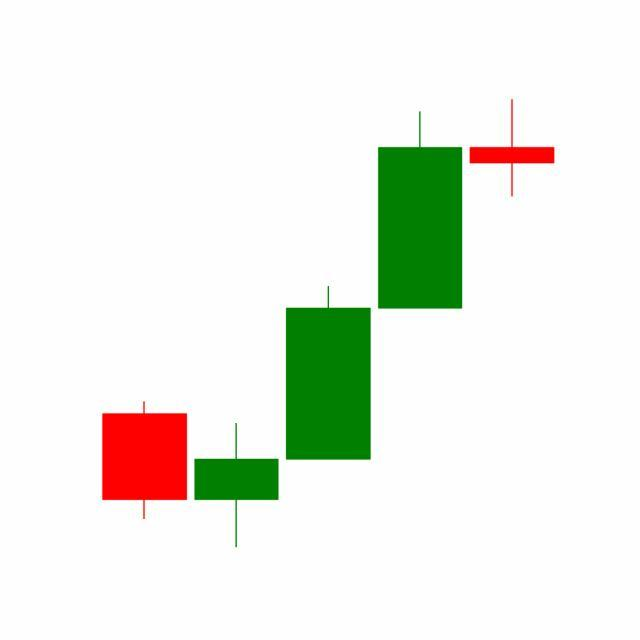Hammer: (466, 99, 559, 200)
